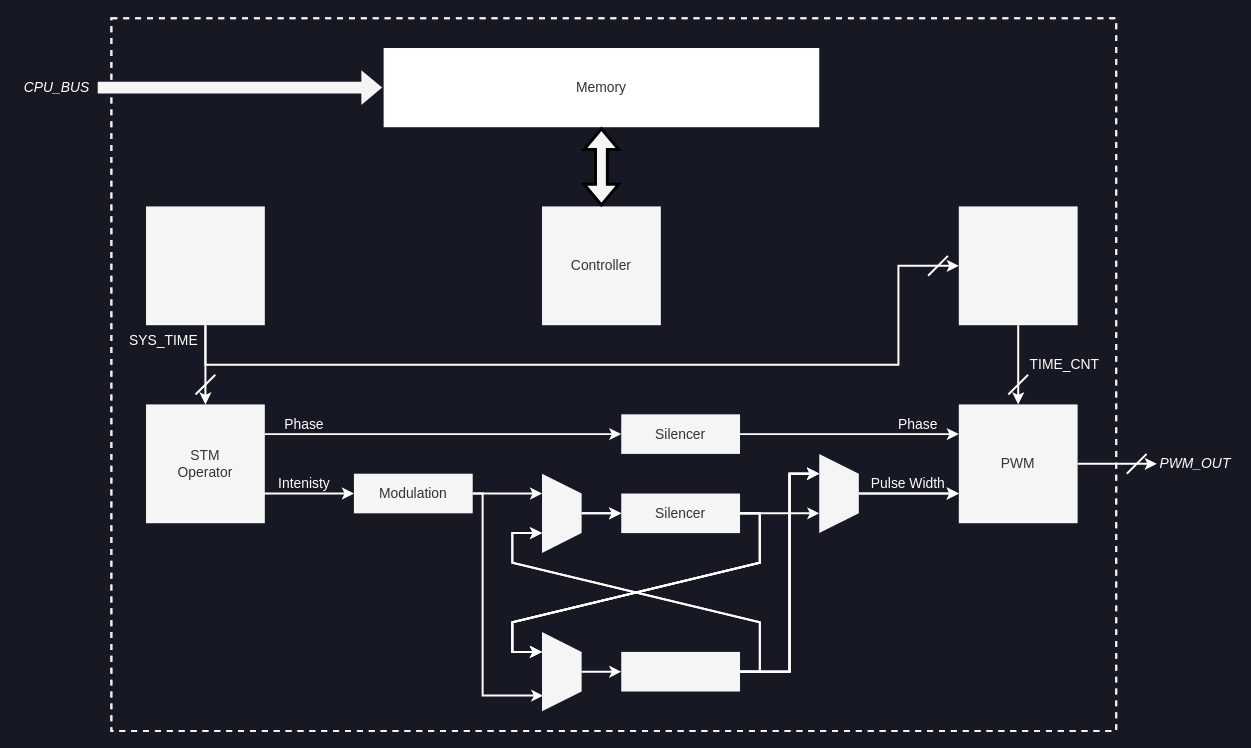
Some shapes in this 1251 by 748 pixel diagram are drawn without their labels. Here are the shapes that lost their labels. From the top down, the box of each, then its label:
(146, 206, 264, 325): Synchronizer
(958, 206, 1077, 325): Time Count Generator
(621, 651, 740, 691): Pulse Width Encoder
